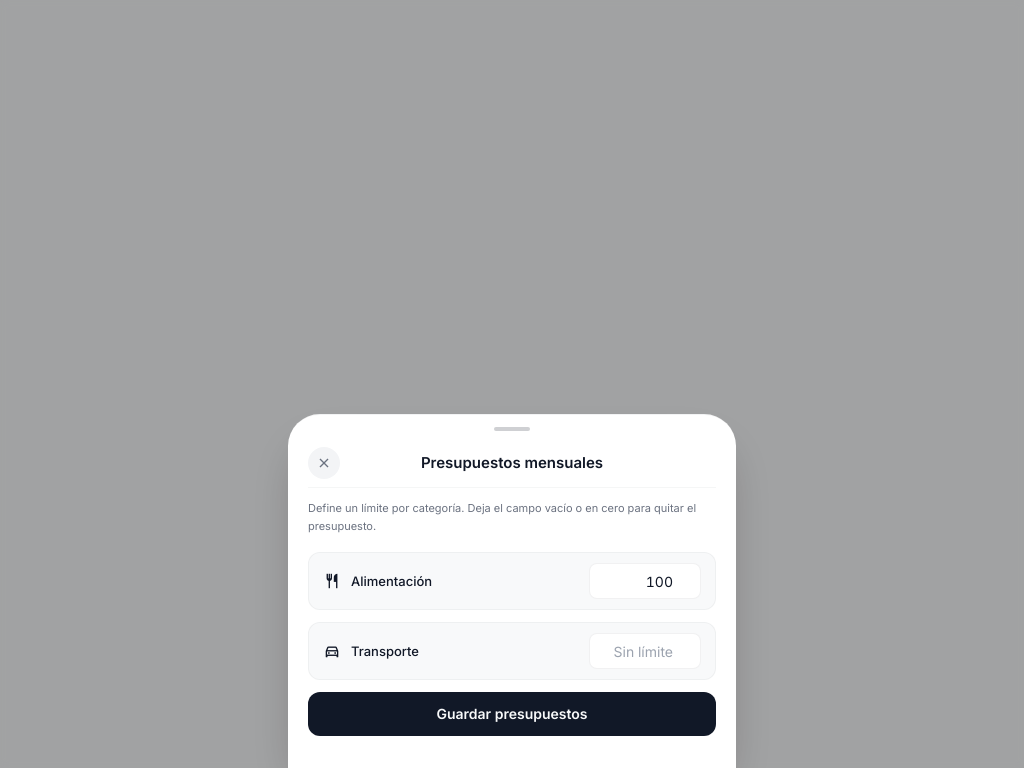
Test case: BudgetModal › rechaza montos negativos
The width and height of the screenshot is (1024, 768).
In the number field named "Presupuesto de Transporte": point(645, 651) top-left (589, 633), bottom-right (701, 669), type "-5"
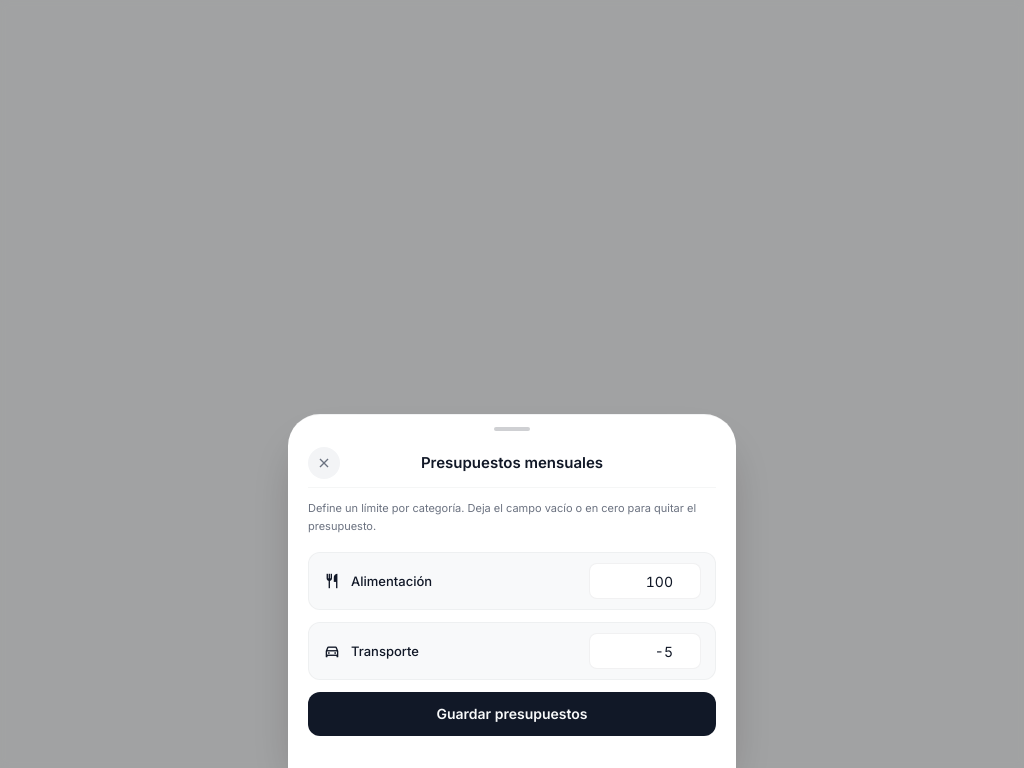
Click the button "Guardar presupuestos": point(512, 714) top-left (308, 692), bottom-right (716, 736)
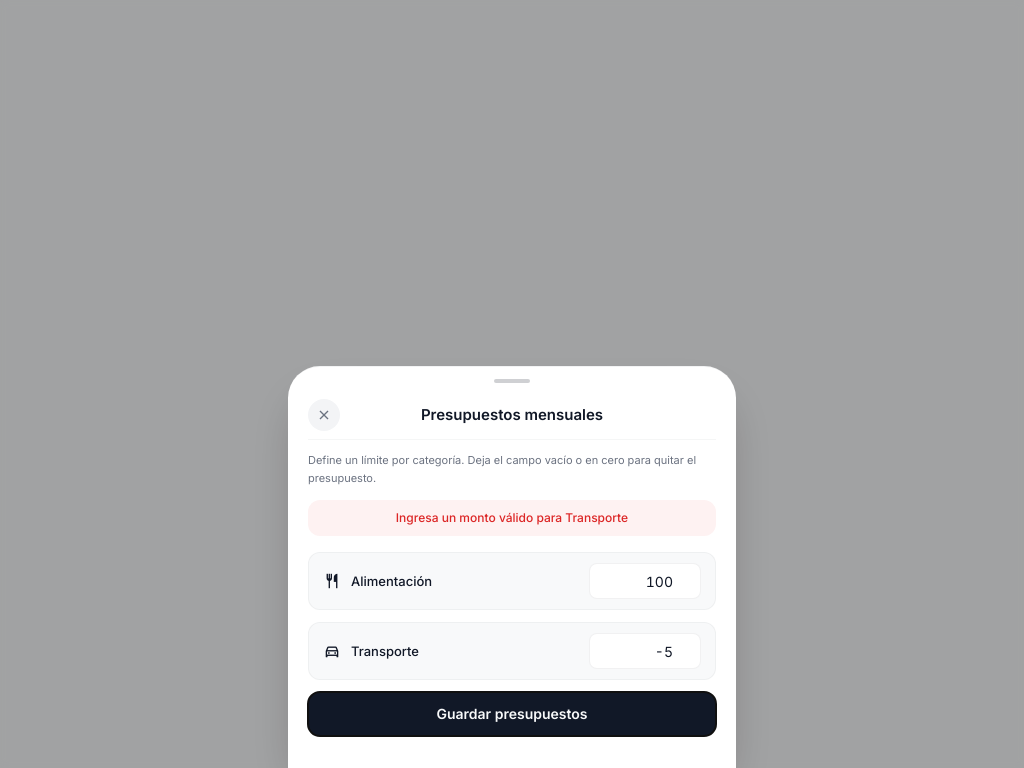
expect the text "Ingresa un monto válido para Transporte" is shown: met, box top-left (308, 500), bottom-right (716, 536)
